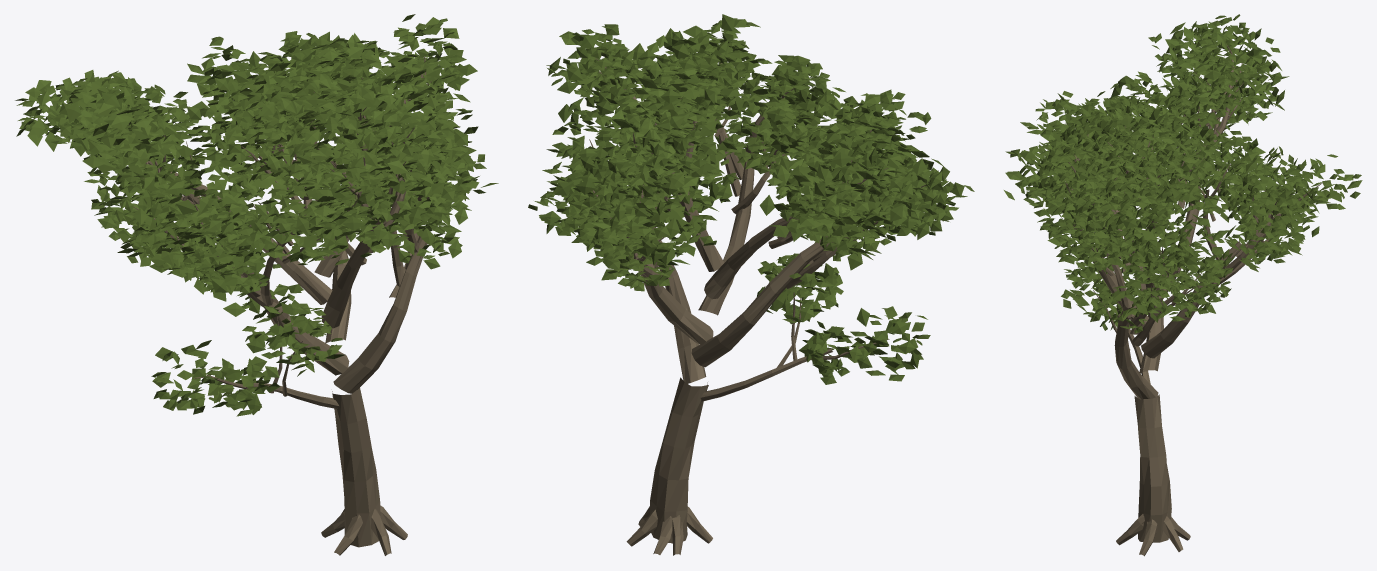
File: leaning-linden.glb
The picture shows the model from 3 angles, left to right: view 1: azimuth 30°, elevation 25°; view 2: azimuth 150°, elevation 25°; view 3: azimuth 270°, elevation 25°; orthographic projection. The views are drawn at different scales.
Visible parts, largest first — view 1: individual-folded-leaves, connected-curved-wood; view 2: individual-folded-leaves, connected-curved-wood; view 3: individual-folded-leaves, connected-curved-wood.
Part boxes in pixels (x1,y1,x2,y2): individual-folded-leaves: (15, 14, 498, 416); connected-curved-wood: (128, 56, 431, 555); individual-folded-leaves: (528, 14, 974, 384); connected-curved-wood: (589, 54, 925, 555); individual-folded-leaves: (1004, 14, 1362, 333); connected-curved-wood: (1065, 45, 1322, 556).
Bounding box in the file's own units: 9.06 × 10.55 × 7.98.
